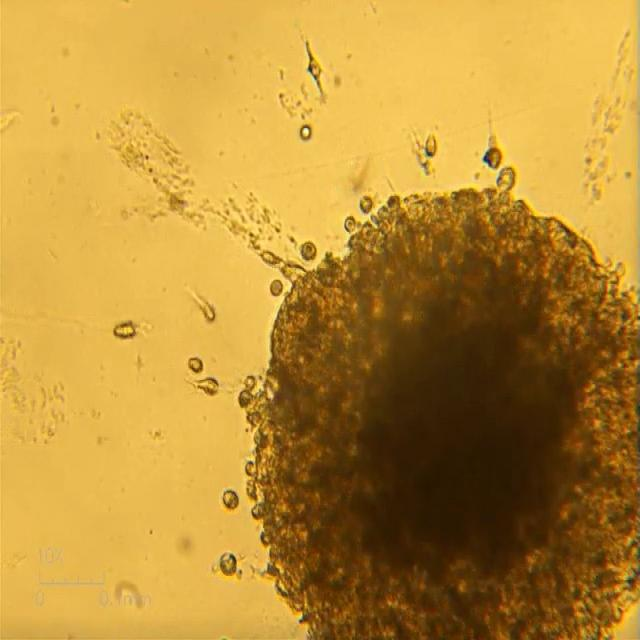cell: (188, 283, 216, 322), (304, 41, 321, 89), (482, 134, 504, 169), (218, 552, 239, 577), (220, 488, 238, 512), (112, 321, 135, 339), (186, 355, 204, 373), (425, 134, 438, 157), (271, 279, 284, 299), (298, 123, 312, 141), (200, 378, 216, 393), (302, 242, 318, 257), (360, 197, 374, 214), (344, 215, 356, 231)
tumor_mass: (239, 167, 640, 640)
